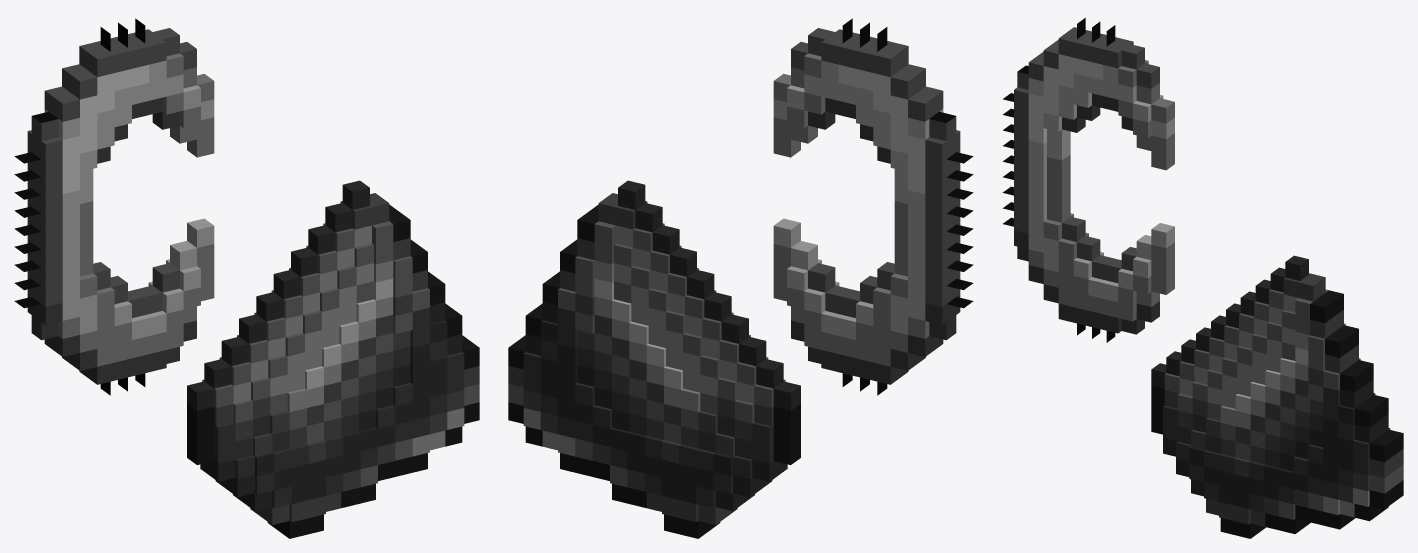
Rendered from flint_and_steel.gltf.
3 renders of one model, left to right at view 1: azimuth 30°, elevation 25°; view 2: azimuth 150°, elevation 25°; view 3: azimuth 330°, elevation 25°, orthographic. The views are drawn at different scales.
Visible parts, largest first — view 1: 4444ff97-8195-864e-5467-d28e9dfb652e, 53d639e1-6c92-7349-a84c-0cae4800a8ea, e89a2bdd-4e78-995a-7aa2-b3b1e3d641da, e0c699b8-613e-b01d-51b4-0846ec14c31f, 7cc338ca-5208-77ca-c590-745ba839e176, 4bde67f6-fb6d-42fa-9661-f9d9c4e9a6b0, a37bc128-e0db-c8c2-20fe-393801ca36af, b6aae8cf-85b8-472a-f0da-b5fde6eb5cfe, de6ddf57-62e8-475b-c7f2-e9360e102926, 084a7902-58a6-079d-b55d-023f38585fe3, 4fd9396d-5224-4437-5d4a-48ac218a7737, 82d1eee3-6fb1-8aed-d434-6d1c0a165c2a (+22 smaller); view 2: 4444ff97-8195-864e-5467-d28e9dfb652e, 53d639e1-6c92-7349-a84c-0cae4800a8ea, e89a2bdd-4e78-995a-7aa2-b3b1e3d641da, e0c699b8-613e-b01d-51b4-0846ec14c31f, 7cc338ca-5208-77ca-c590-745ba839e176, 4bde67f6-fb6d-42fa-9661-f9d9c4e9a6b0, a37bc128-e0db-c8c2-20fe-393801ca36af, b6aae8cf-85b8-472a-f0da-b5fde6eb5cfe, de6ddf57-62e8-475b-c7f2-e9360e102926, 084a7902-58a6-079d-b55d-023f38585fe3, 4fd9396d-5224-4437-5d4a-48ac218a7737, 82d1eee3-6fb1-8aed-d434-6d1c0a165c2a (+22 smaller); view 3: e43d8450-8306-4914-aa3f-722a412220d0, ecfc9b8c-dbdf-f6ce-4823-96b0bba15ade, 85e3870d-78aa-eb94-4718-9c2d80f9a5d7, 18ad7663-d97a-350f-c7d8-880df363e439, 31930fd8-878e-8e59-eefb-f179acb629a8, 3be166b6-d878-7f74-c92d-9d422c76498a, 80494a5e-e3df-37f7-4577-d503c338543f, 3dc1d0c1-72e2-0369-7e52-59830724aa9a, eea6e697-2953-358b-0cd8-c8b5bdad3628, 7e1db327-6aef-0546-4245-3c2932d22f43, 2a76844f-2eaf-1699-436b-40b9e5a4a4c4, 089d7194-b850-baf1-a82d-7b992346a116 (+9 smaller).
Part boxes in pixels (bbox=[...]): 4444ff97-8195-864e-5467-d28e9dfb652e: bbox=[44, 86, 79, 121]; 53d639e1-6c92-7349-a84c-0cae4800a8ea: bbox=[62, 64, 97, 99]; e89a2bdd-4e78-995a-7aa2-b3b1e3d641da: bbox=[79, 42, 114, 77]; e0c699b8-613e-b01d-51b4-0846ec14c31f: bbox=[27, 130, 62, 162]; 7cc338ca-5208-77ca-c590-745ba839e176: bbox=[221, 336, 248, 366]; 4bde67f6-fb6d-42fa-9661-f9d9c4e9a6b0: bbox=[256, 292, 283, 321]; a37bc128-e0db-c8c2-20fe-393801ca36af: bbox=[204, 359, 231, 388]; b6aae8cf-85b8-472a-f0da-b5fde6eb5cfe: bbox=[239, 314, 266, 343]; de6ddf57-62e8-475b-c7f2-e9360e102926: bbox=[308, 225, 335, 254]; 084a7902-58a6-079d-b55d-023f38585fe3: bbox=[187, 381, 214, 410]; 4fd9396d-5224-4437-5d4a-48ac218a7737: bbox=[273, 270, 300, 299]; 82d1eee3-6fb1-8aed-d434-6d1c0a165c2a: bbox=[325, 203, 352, 232]; 4444ff97-8195-864e-5467-d28e9dfb652e: bbox=[908, 86, 943, 121]; 53d639e1-6c92-7349-a84c-0cae4800a8ea: bbox=[890, 64, 925, 99]; e89a2bdd-4e78-995a-7aa2-b3b1e3d641da: bbox=[873, 42, 908, 77]; e0c699b8-613e-b01d-51b4-0846ec14c31f: bbox=[925, 130, 960, 162]; 7cc338ca-5208-77ca-c590-745ba839e176: bbox=[739, 336, 766, 366]; 4bde67f6-fb6d-42fa-9661-f9d9c4e9a6b0: bbox=[704, 292, 731, 321]; a37bc128-e0db-c8c2-20fe-393801ca36af: bbox=[756, 359, 783, 388]; b6aae8cf-85b8-472a-f0da-b5fde6eb5cfe: bbox=[721, 314, 748, 343]; de6ddf57-62e8-475b-c7f2-e9360e102926: bbox=[652, 225, 679, 254]; 084a7902-58a6-079d-b55d-023f38585fe3: bbox=[773, 381, 800, 410]; 4fd9396d-5224-4437-5d4a-48ac218a7737: bbox=[687, 270, 714, 299]; 82d1eee3-6fb1-8aed-d434-6d1c0a165c2a: bbox=[635, 203, 662, 232]; e43d8450-8306-4914-aa3f-722a412220d0: bbox=[1369, 429, 1403, 462]; ecfc9b8c-dbdf-f6ce-4823-96b0bba15ade: bbox=[1354, 395, 1388, 427]; 85e3870d-78aa-eb94-4718-9c2d80f9a5d7: bbox=[1340, 360, 1373, 392]; 18ad7663-d97a-350f-c7d8-880df363e439: bbox=[1310, 290, 1343, 323]; 31930fd8-878e-8e59-eefb-f179acb629a8: bbox=[1325, 325, 1358, 357]; 3be166b6-d878-7f74-c92d-9d422c76498a: bbox=[1298, 273, 1325, 301]; 80494a5e-e3df-37f7-4577-d503c338543f: bbox=[1369, 480, 1403, 509]; 3dc1d0c1-72e2-0369-7e52-59830724aa9a: bbox=[1354, 414, 1388, 443]; eea6e697-2953-358b-0cd8-c8b5bdad3628: bbox=[1369, 464, 1403, 493]; 7e1db327-6aef-0546-4245-3c2932d22f43: bbox=[1369, 449, 1403, 477]; 2a76844f-2eaf-1699-436b-40b9e5a4a4c4: bbox=[1325, 344, 1358, 373]; 089d7194-b850-baf1-a82d-7b992346a116: bbox=[1340, 379, 1373, 408].
Size of the model in its own units: 13 by 15 by 1.3.
2 materials, 2 textured.
